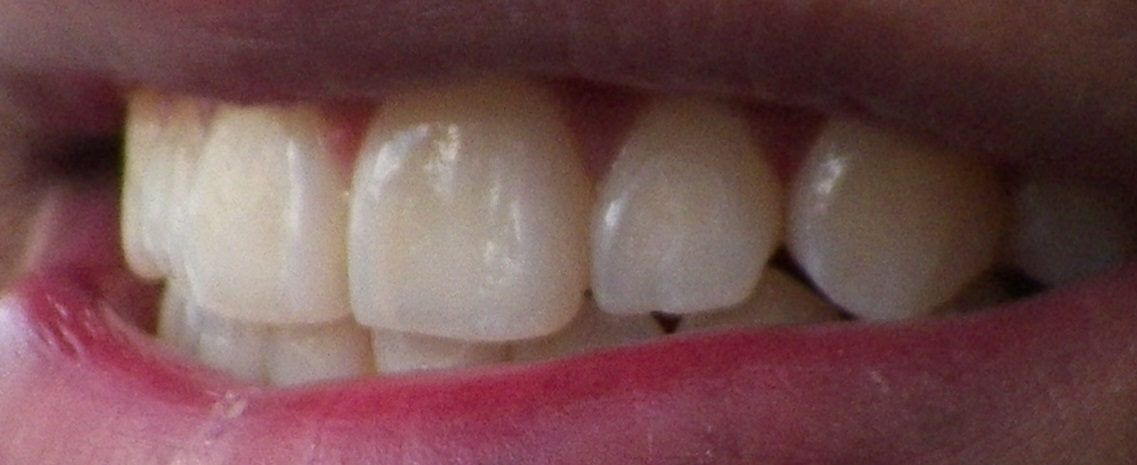boca: (97, 73, 1067, 391)
